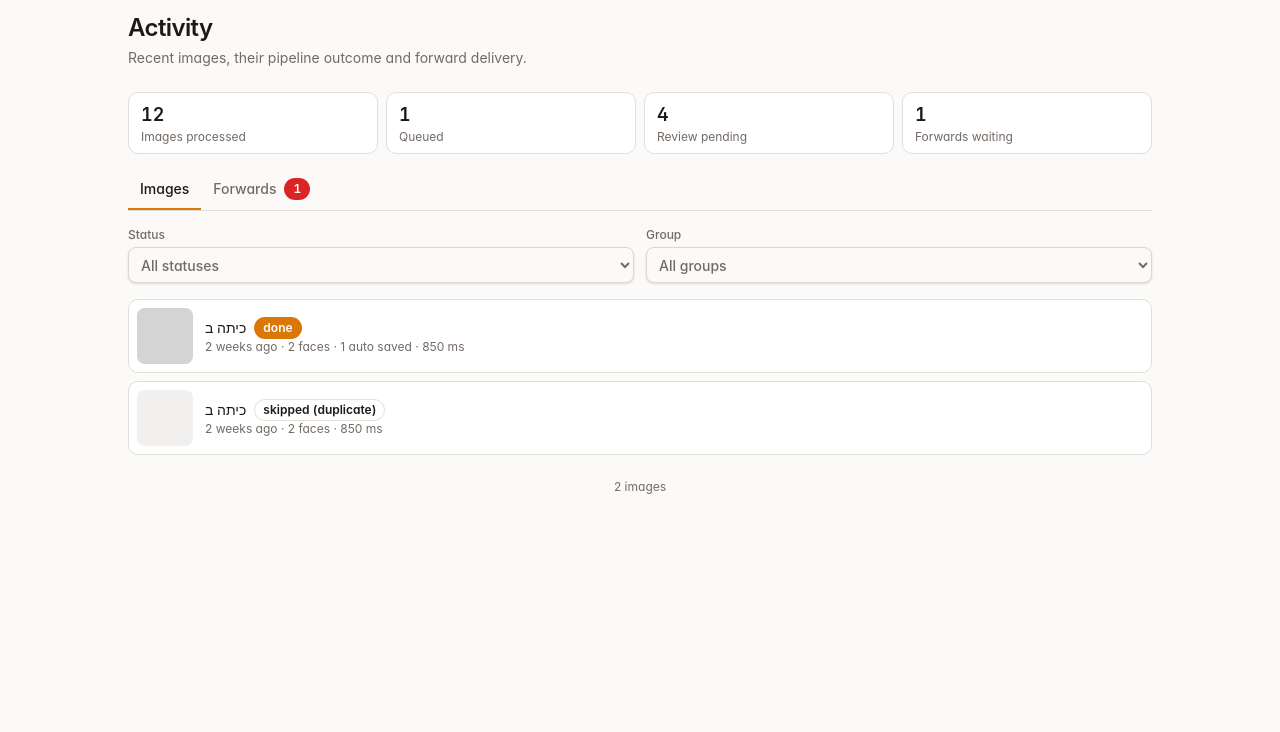
Scenario: ActivityPage › shows a toast when the retry fails
Click the tab "Forwards 1".
click(262, 190)  # box [201, 170, 322, 210]
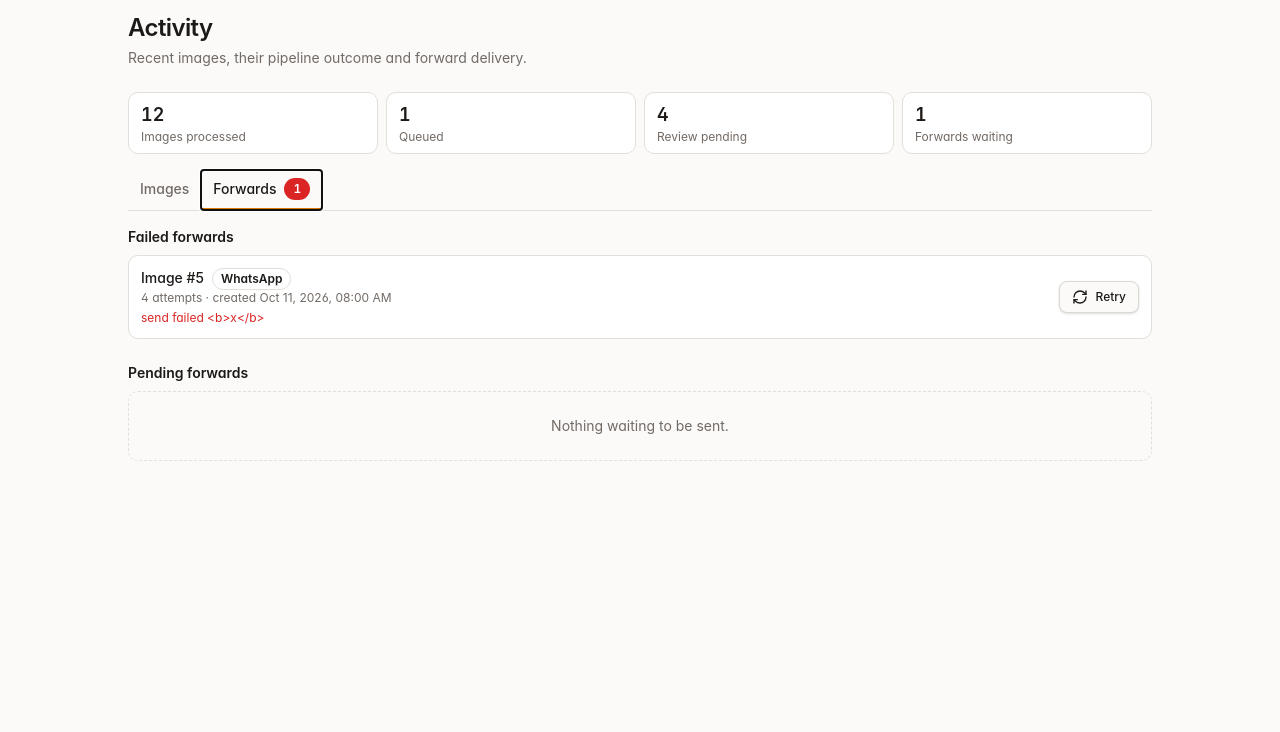
Click the button with aria-label "Retry forward 11".
click(1099, 297)  # box [1058, 281, 1139, 313]
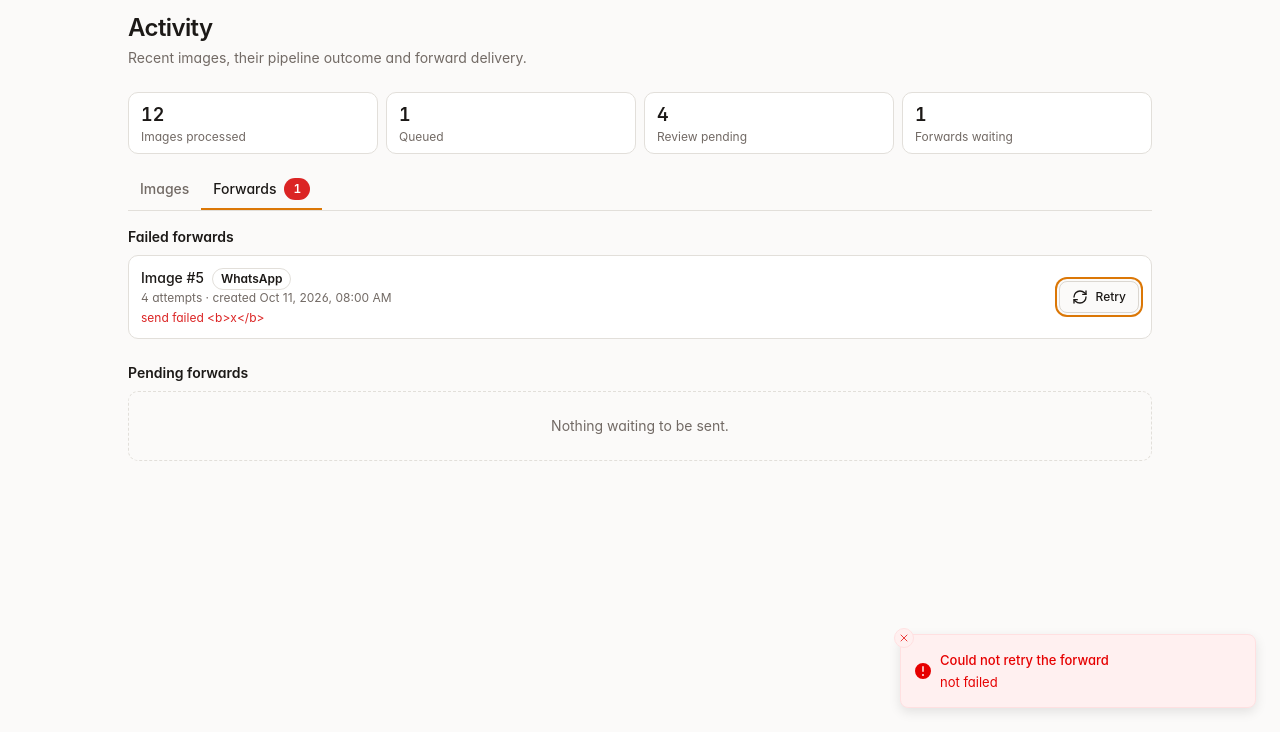
Now the text "Could not retry the forward" is shown, box [940, 651, 1109, 671]
